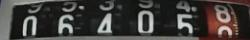digits: (133, 10, 157, 38), (173, 12, 196, 39), (92, 12, 115, 38), (54, 13, 76, 38), (19, 14, 38, 38), (211, 4, 232, 24)
